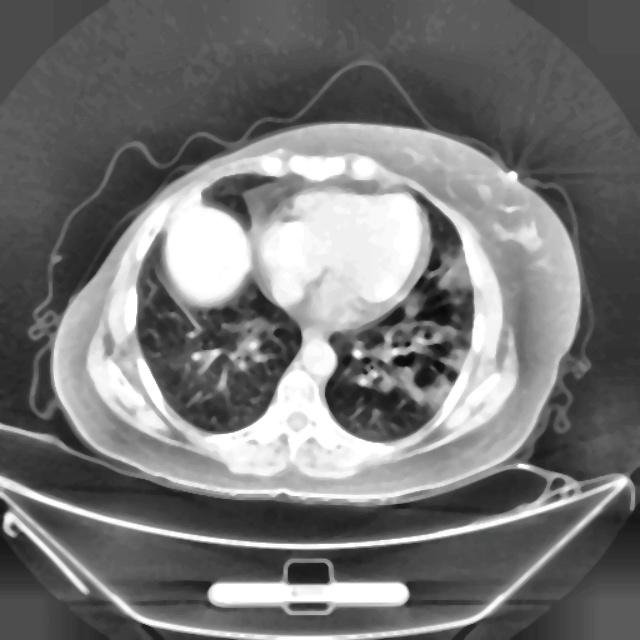covid: (48, 118, 582, 504)
